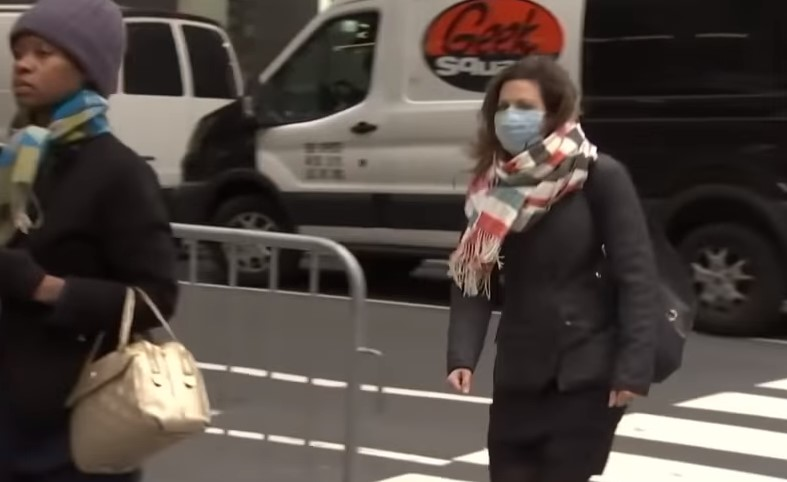face_with_mask: (481, 57, 575, 160)
